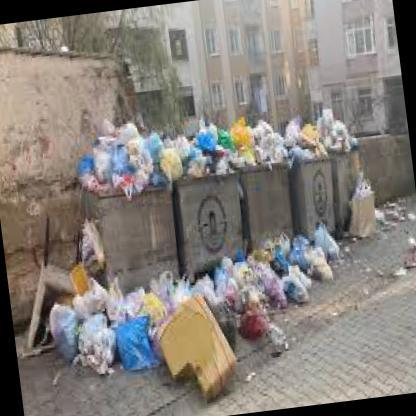Garbage: (228, 226, 338, 319), (44, 256, 111, 381), (82, 280, 160, 384), (70, 128, 169, 194), (164, 120, 235, 170), (226, 120, 286, 162), (276, 116, 328, 156), (315, 108, 352, 152), (73, 222, 101, 274), (209, 270, 232, 316)
